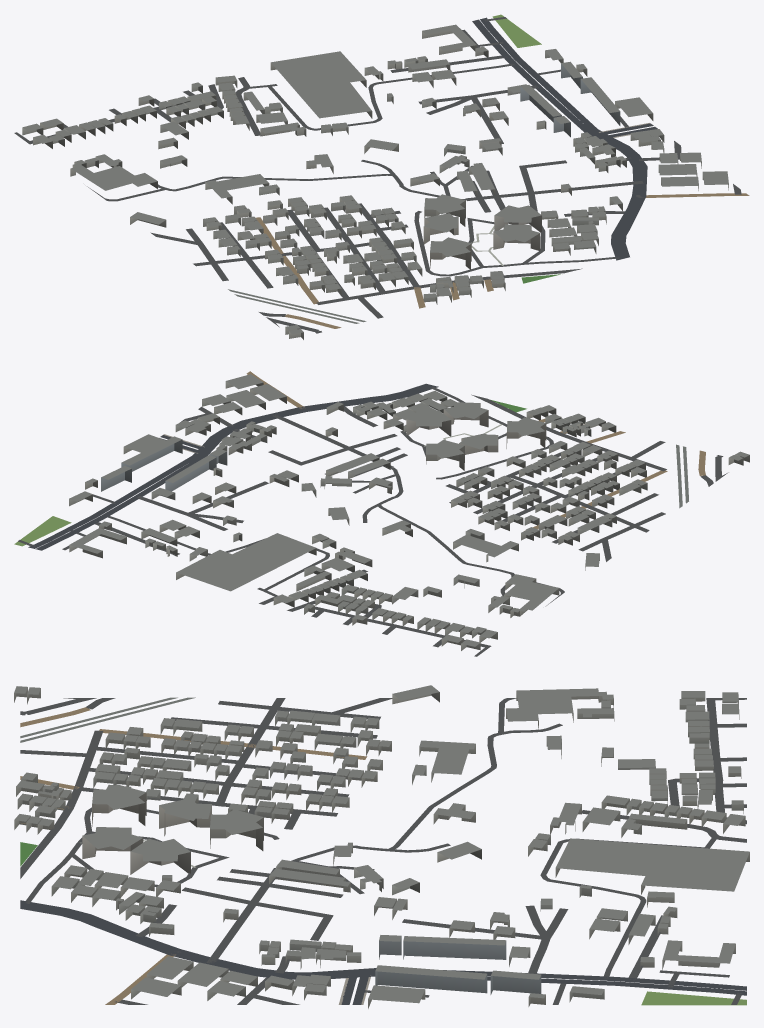
3 renders of one model, top to bottom at view 1: azimuth 30°, elevation 25°; view 2: azimuth 150°, elevation 25°; view 3: azimuth 270°, elevation 25°, orthographic. The views are drawn at different scales.
Parts seen in each view (by area): view 1: building, ground; view 2: building, ground; view 3: building, ground.
Boxes of the visible parts, x1=… form: building: x1=22, y1=24, x2=728, y2=339; ground: x1=14, y1=14, x2=749, y2=333; building: x1=69, y1=374, x2=749, y2=650; ground: x1=14, y1=371, x2=728, y2=656; building: x1=14, y1=685, x2=749, y2=1008; ground: x1=20, y1=697, x2=746, y2=1005.
Bounding box in the file's own units: 518 × 18 × 507.
